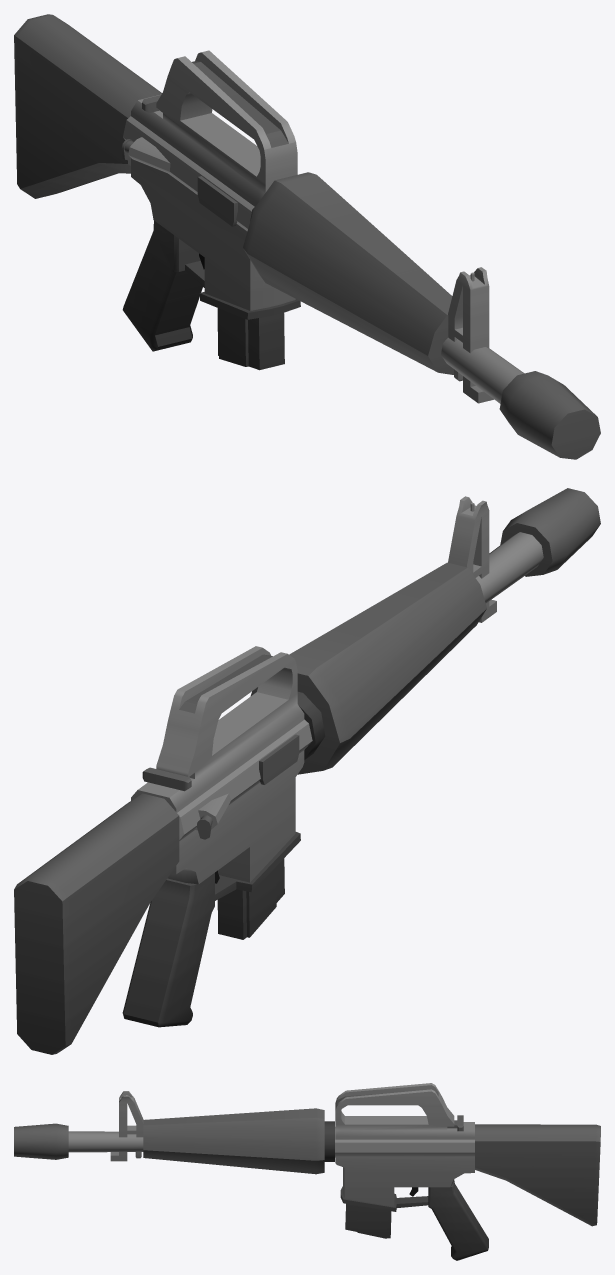
The model's file is LV6_Weapon.fbx.
3 renders of one model, top to bottom at view 1: azimuth 30°, elevation 25°; view 2: azimuth 150°, elevation 25°; view 3: azimuth 270°, elevation 25°, orthographic. The views are drawn at different scales.
Parts seen in each view (by area): view 1: LV6_Weapon; view 2: LV6_Weapon; view 3: LV6_Weapon.
Boxes of the visible parts, x1,y1,x2,y2 form: LV6_Weapon: (14, 14, 600, 459); LV6_Weapon: (14, 488, 600, 1054); LV6_Weapon: (14, 1083, 600, 1260).
Size of the model in its own units: 13.41 by 38.88 by 122.
1 material, 1 textured.
